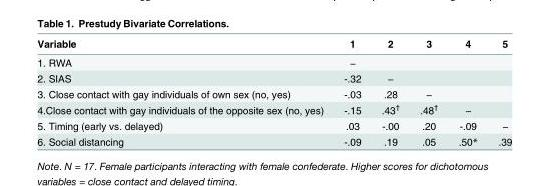table: (36, 37, 511, 147)
table column: (36, 37, 333, 147), (447, 37, 487, 147), (370, 37, 409, 147), (409, 37, 447, 147), (333, 37, 370, 147), (487, 37, 511, 147)
table column header: (36, 37, 511, 52)
table row: (36, 52, 511, 70), (36, 85, 511, 101), (36, 101, 511, 117), (36, 117, 511, 133), (36, 37, 511, 52), (36, 70, 511, 85), (36, 133, 511, 147)
